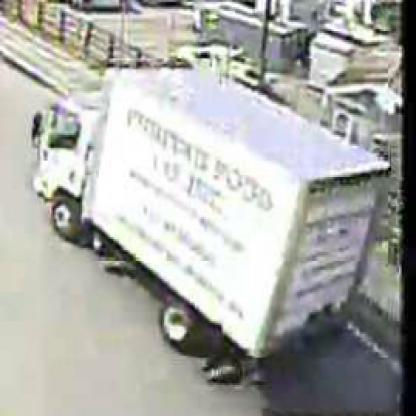truck: (32, 60, 391, 361)
